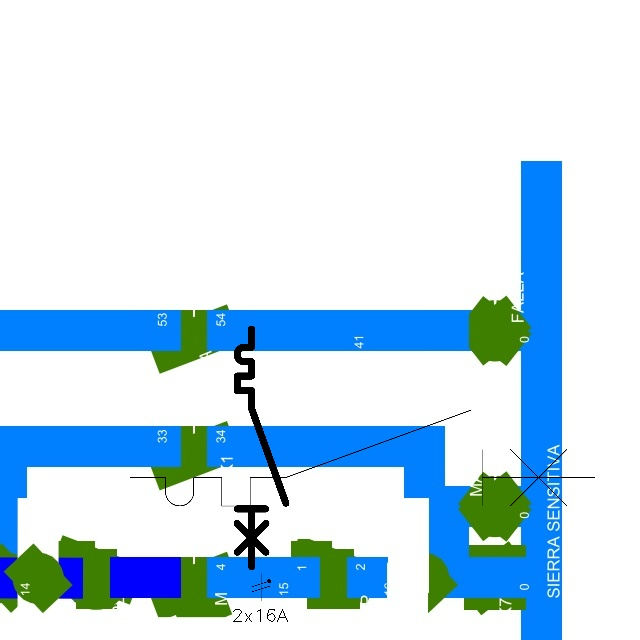interruptor_termomagnetico: (118, 398, 607, 518), (231, 323, 292, 573)
